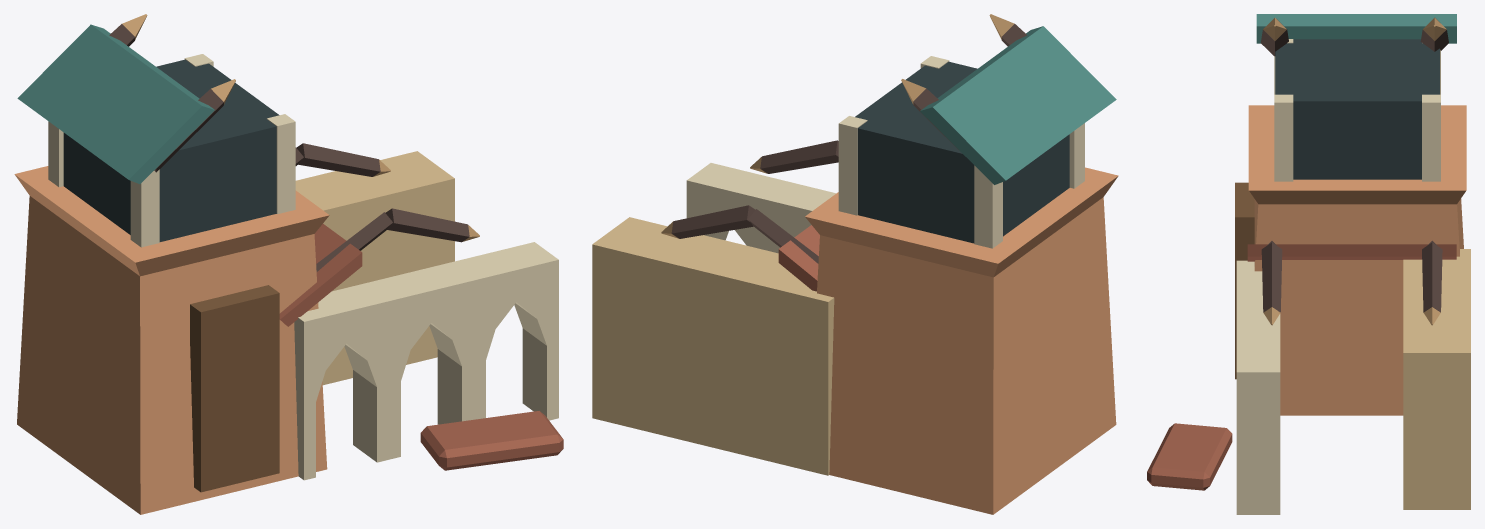
Rendered from ns-pillaged-grain-loft.glb.
3 renders of one model, left to right at view 1: azimuth 30°, elevation 25°; view 2: azimuth 150°, elevation 25°; view 3: azimuth 270°, elevation 25°, orthographic. The views are drawn at different scales.
Visible parts, largest first — view 1: Work profile; view 2: Work profile; view 3: Work profile.
Boxes of the visible parts, bbox=[...] form: Work profile: bbox=[14, 14, 563, 514]; Work profile: bbox=[592, 14, 1118, 514]; Work profile: bbox=[1147, 14, 1470, 514].
Size of the model in its own units: 0.5475 by 0.4964 by 0.4076.
